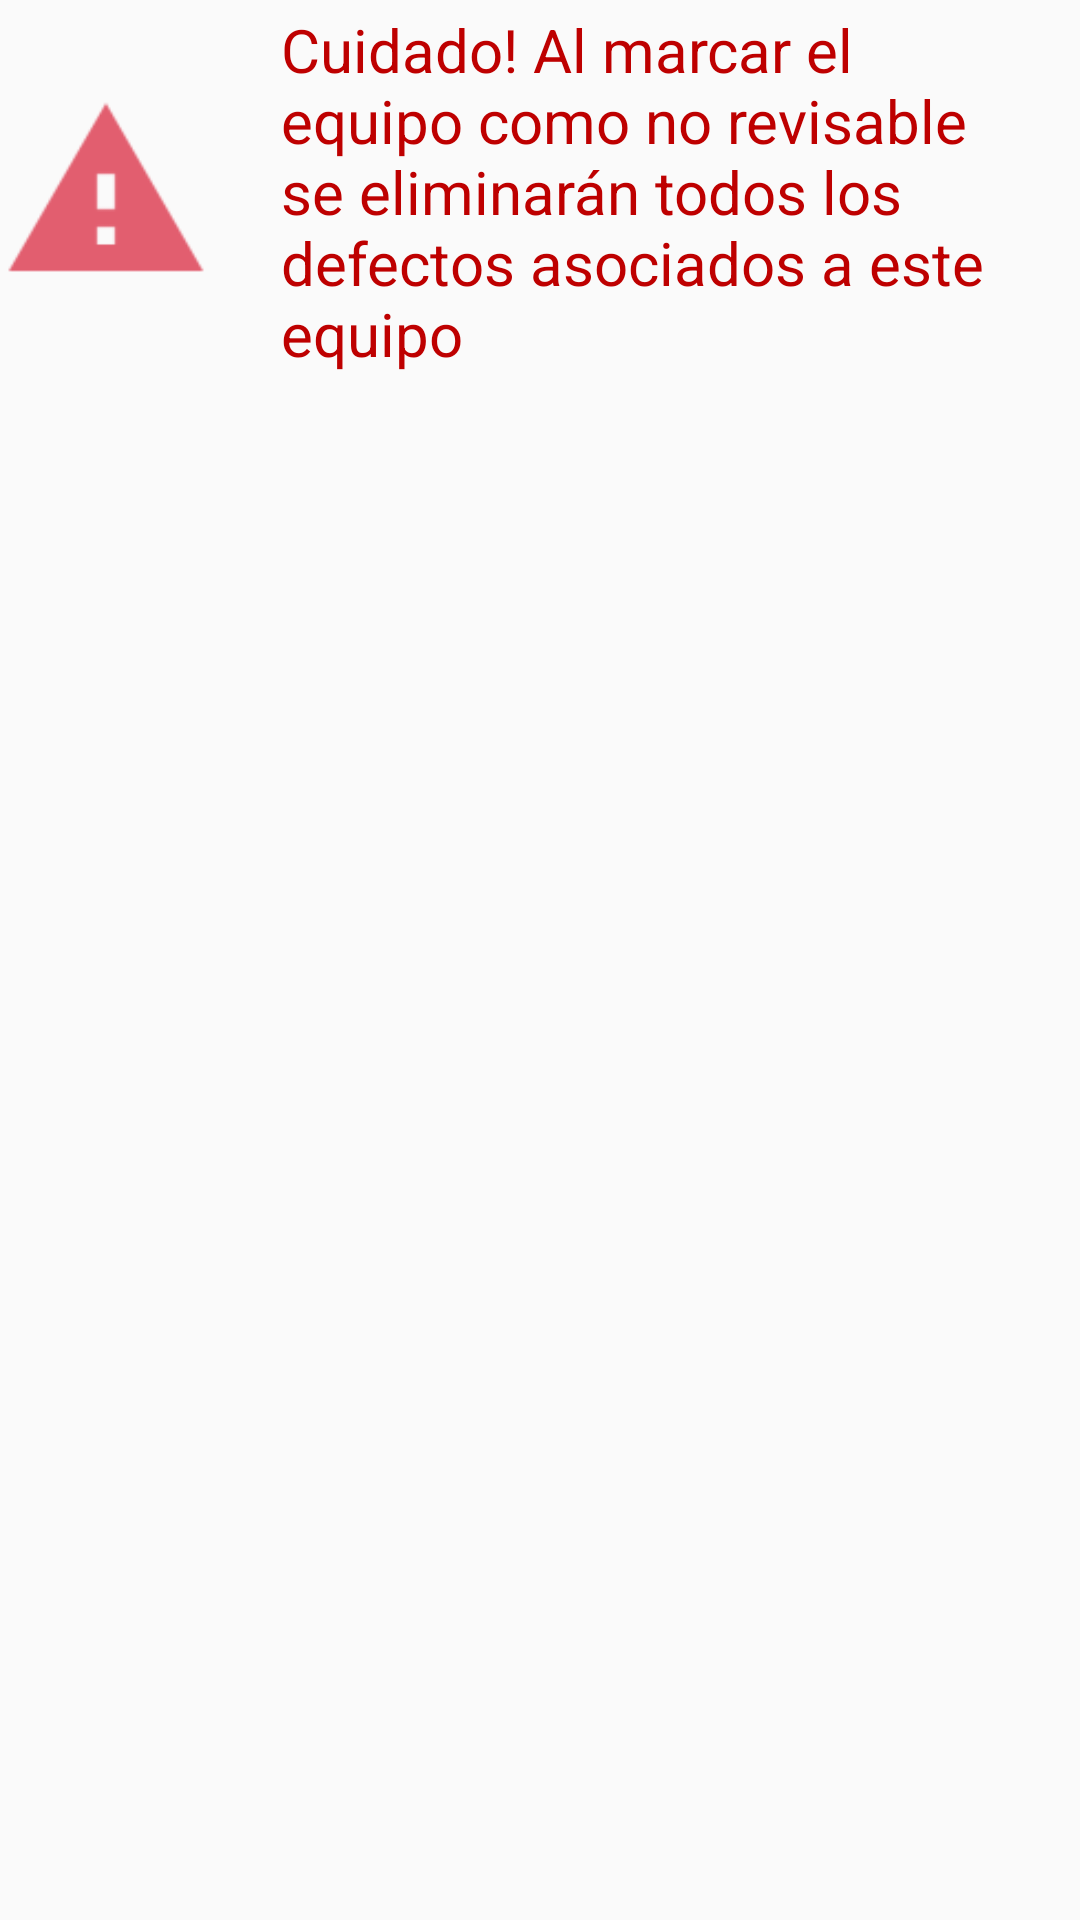

Point at icon controls on the screen. Image size 1080*1920, points as [x,y].
alert: [106,187]
